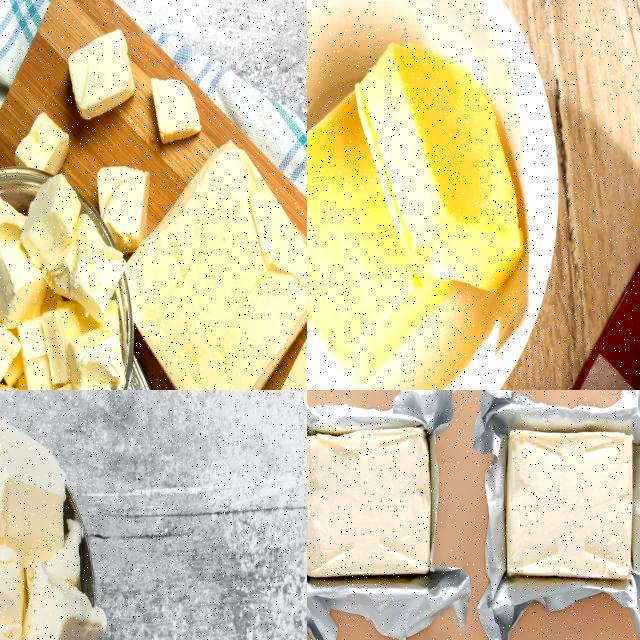Butter: (307, 28, 522, 389), (124, 139, 306, 389), (0, 172, 147, 389), (0, 412, 110, 639), (307, 426, 437, 604), (502, 427, 634, 579), (67, 30, 137, 116), (146, 76, 207, 142)
